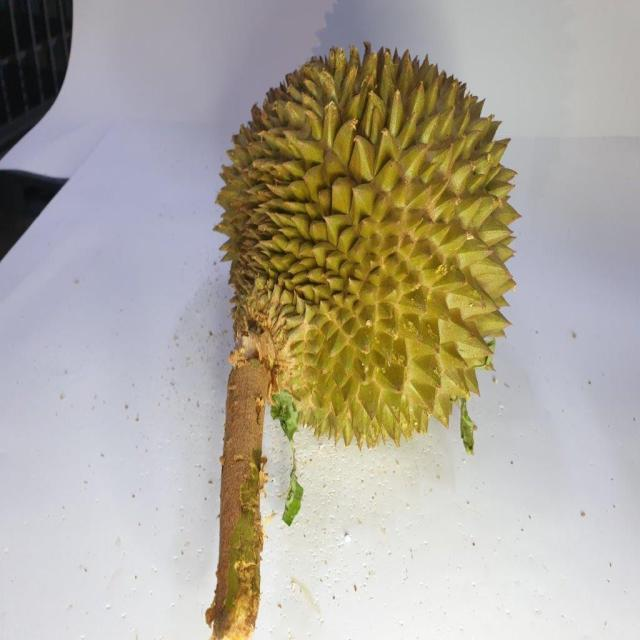mature: (214, 36, 524, 449)
